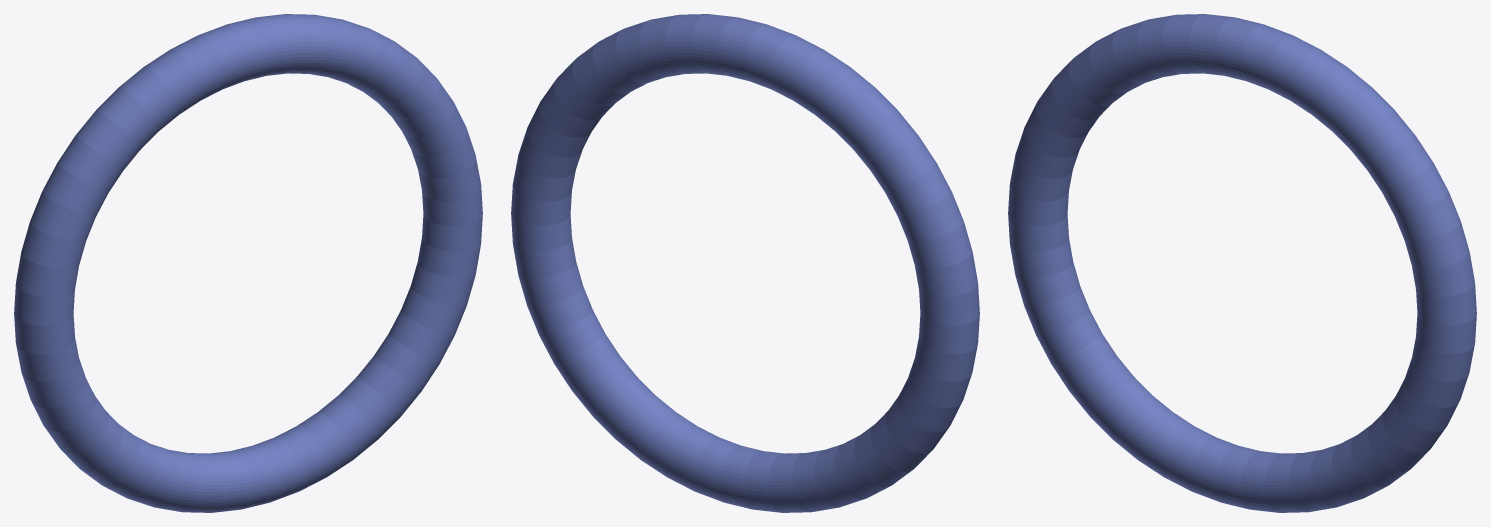
3 renders of one model, left to right at view 1: azimuth 30°, elevation 25°; view 2: azimuth 150°, elevation 25°; view 3: azimuth 330°, elevation 25°, orthographic.
Visible parts, largest first — view 1: world; view 2: world; view 3: world.
Boxes of the visible parts, x1,y1,x2,y2 form: world: [14, 14, 482, 512]; world: [511, 14, 979, 512]; world: [1008, 14, 1476, 512].
Size of the model in its own units: 20.27 by 20.23 by 2.26.
